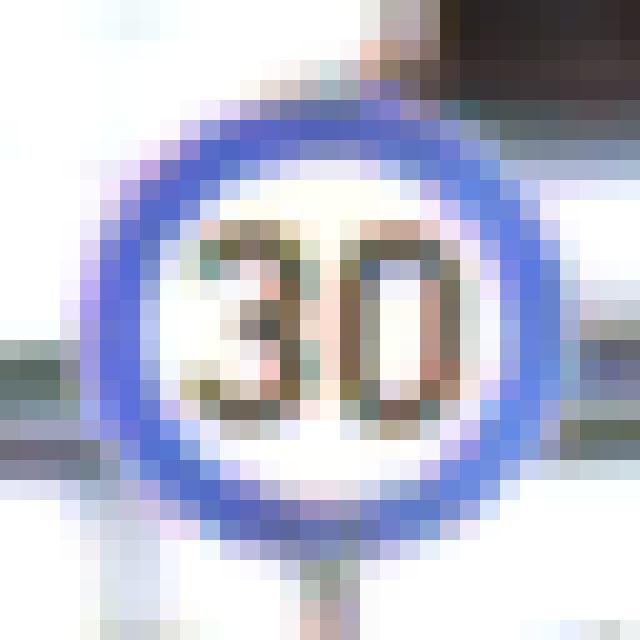SPEED LIMIT 30: (74, 100, 602, 570)
